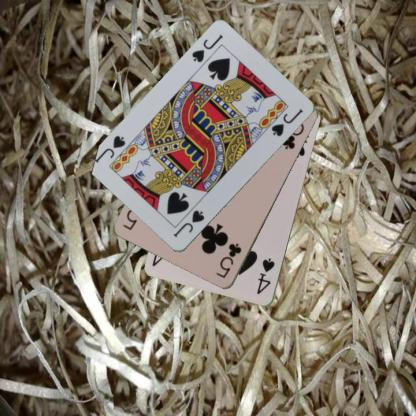4s: (254, 256, 276, 296)
5c: (214, 240, 243, 281)
Js: (170, 208, 206, 240), (189, 32, 225, 64)
